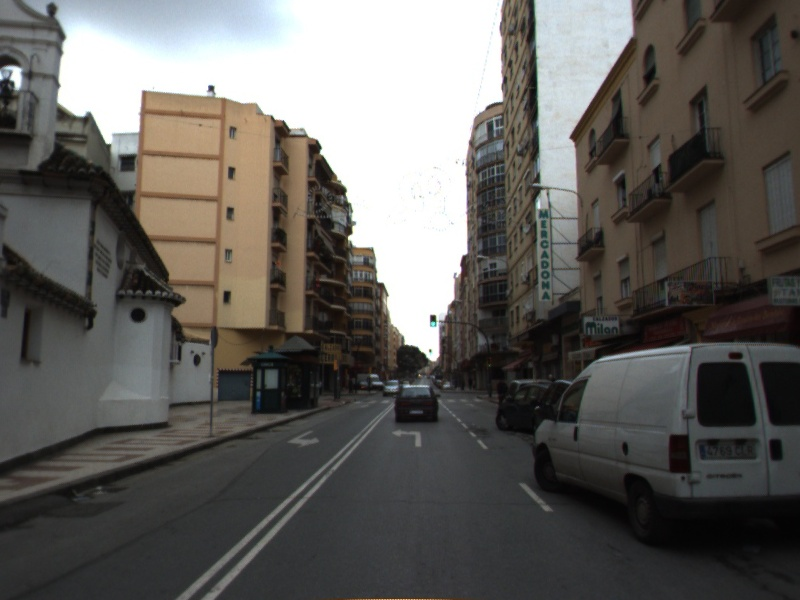LEFT: (390, 427, 423, 448)
